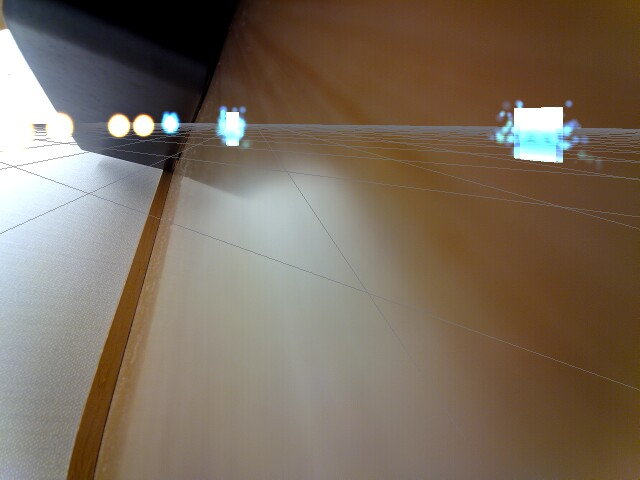firebig: (0, 101, 40, 162)
